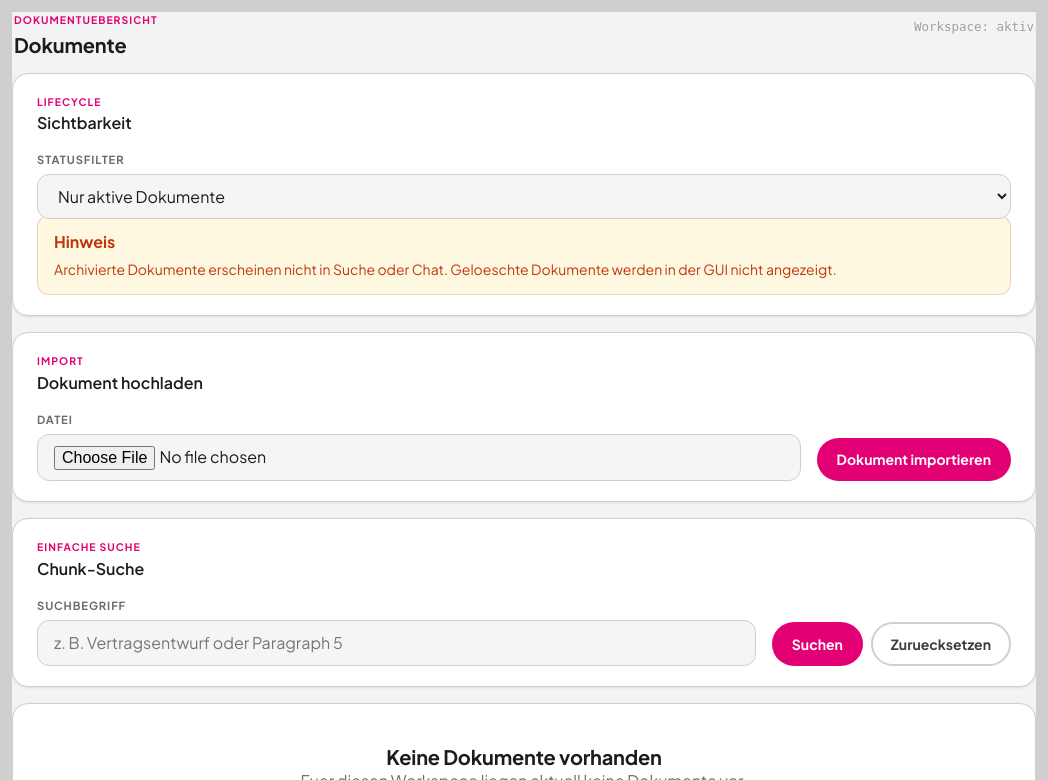
Test: DocumentsPage › renders empty search state when no results are found
Check: the heading "Keine Dokumente vorhanden" is shown, box 386,744 -> 662,769
Step 1. Type "foo" into the search field with placeholder "z. B. Vertragsentwurf oder Paragraph 5" → (396,643), box 37,620 -> 756,666
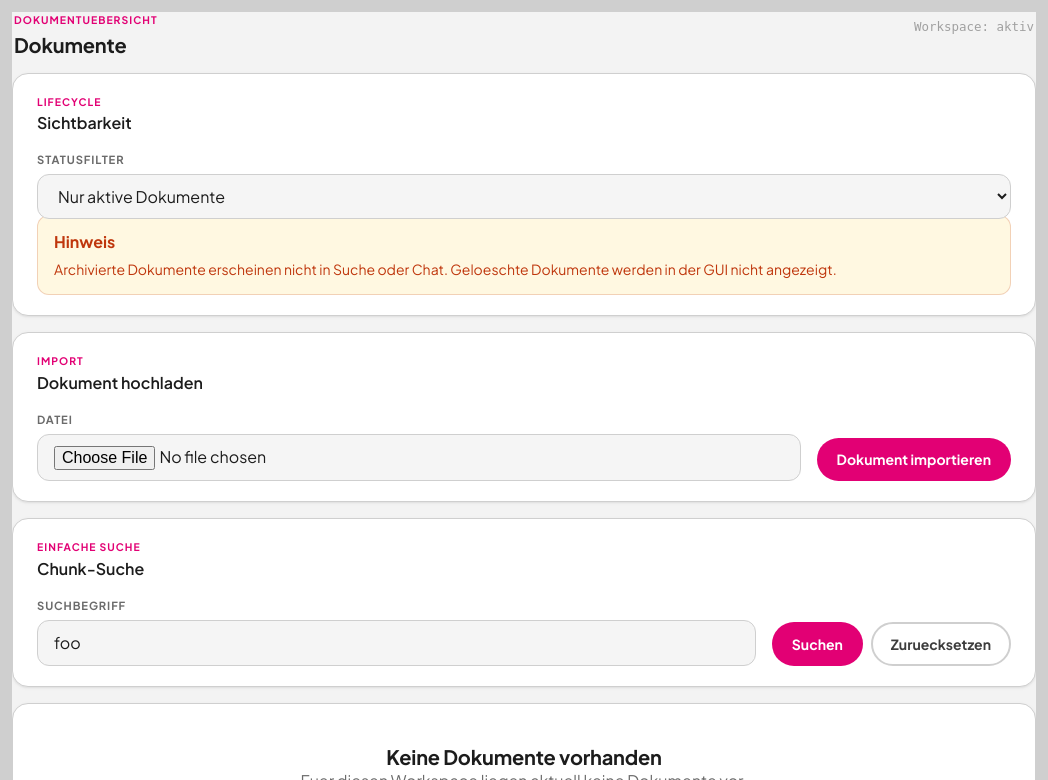
Step 2. Click the button "Suchen" → (817,644), box 772,622 -> 863,666
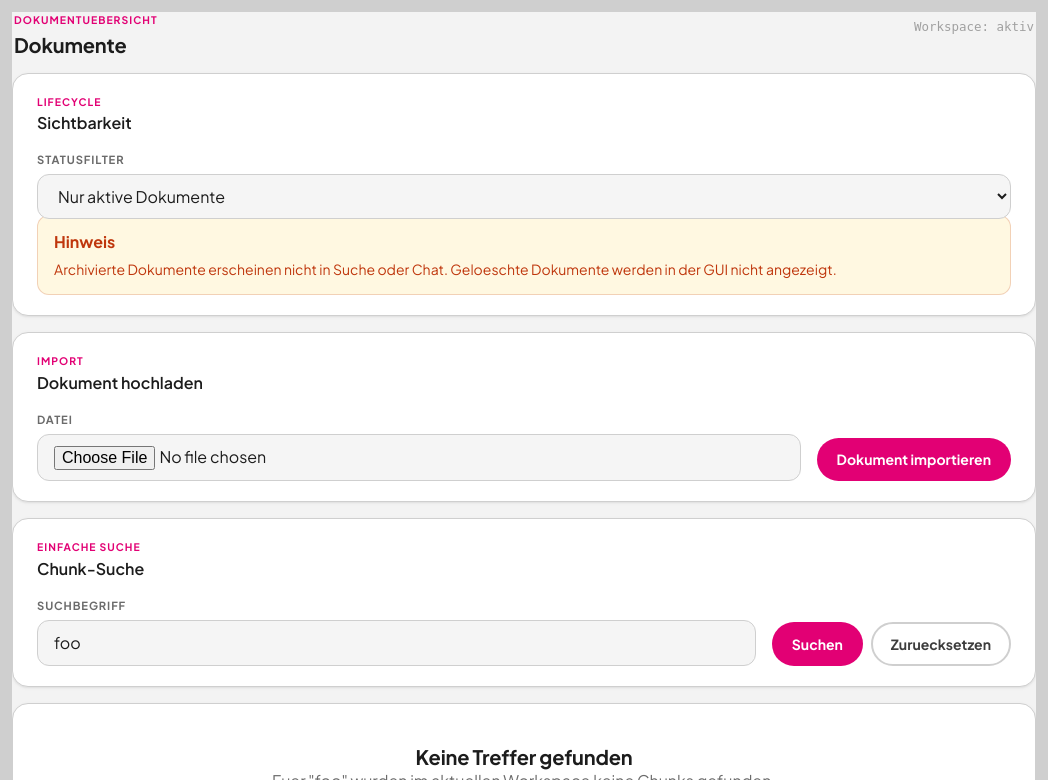
Check: the heading "Keine Treffer gefunden" is shown, box 416,744 -> 632,769
